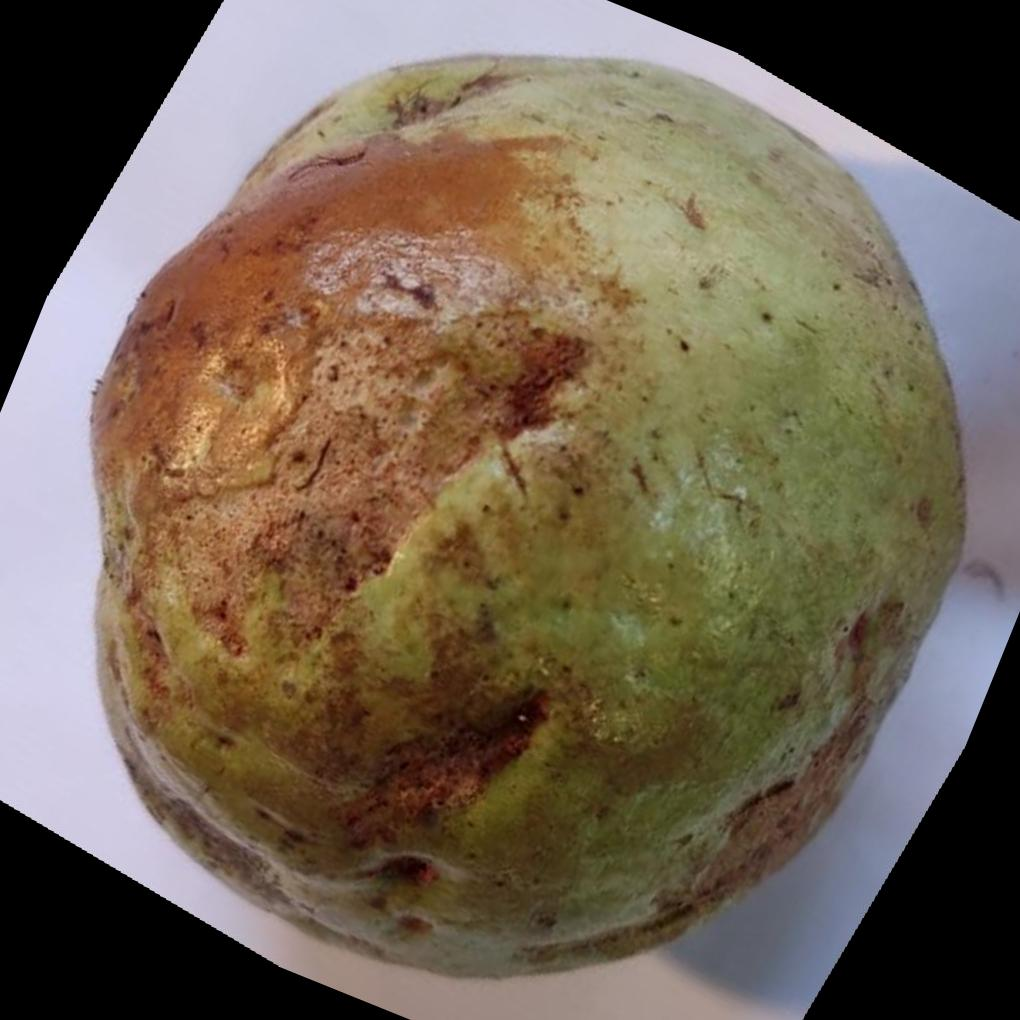FreshOrange: (90, 53, 972, 982)
